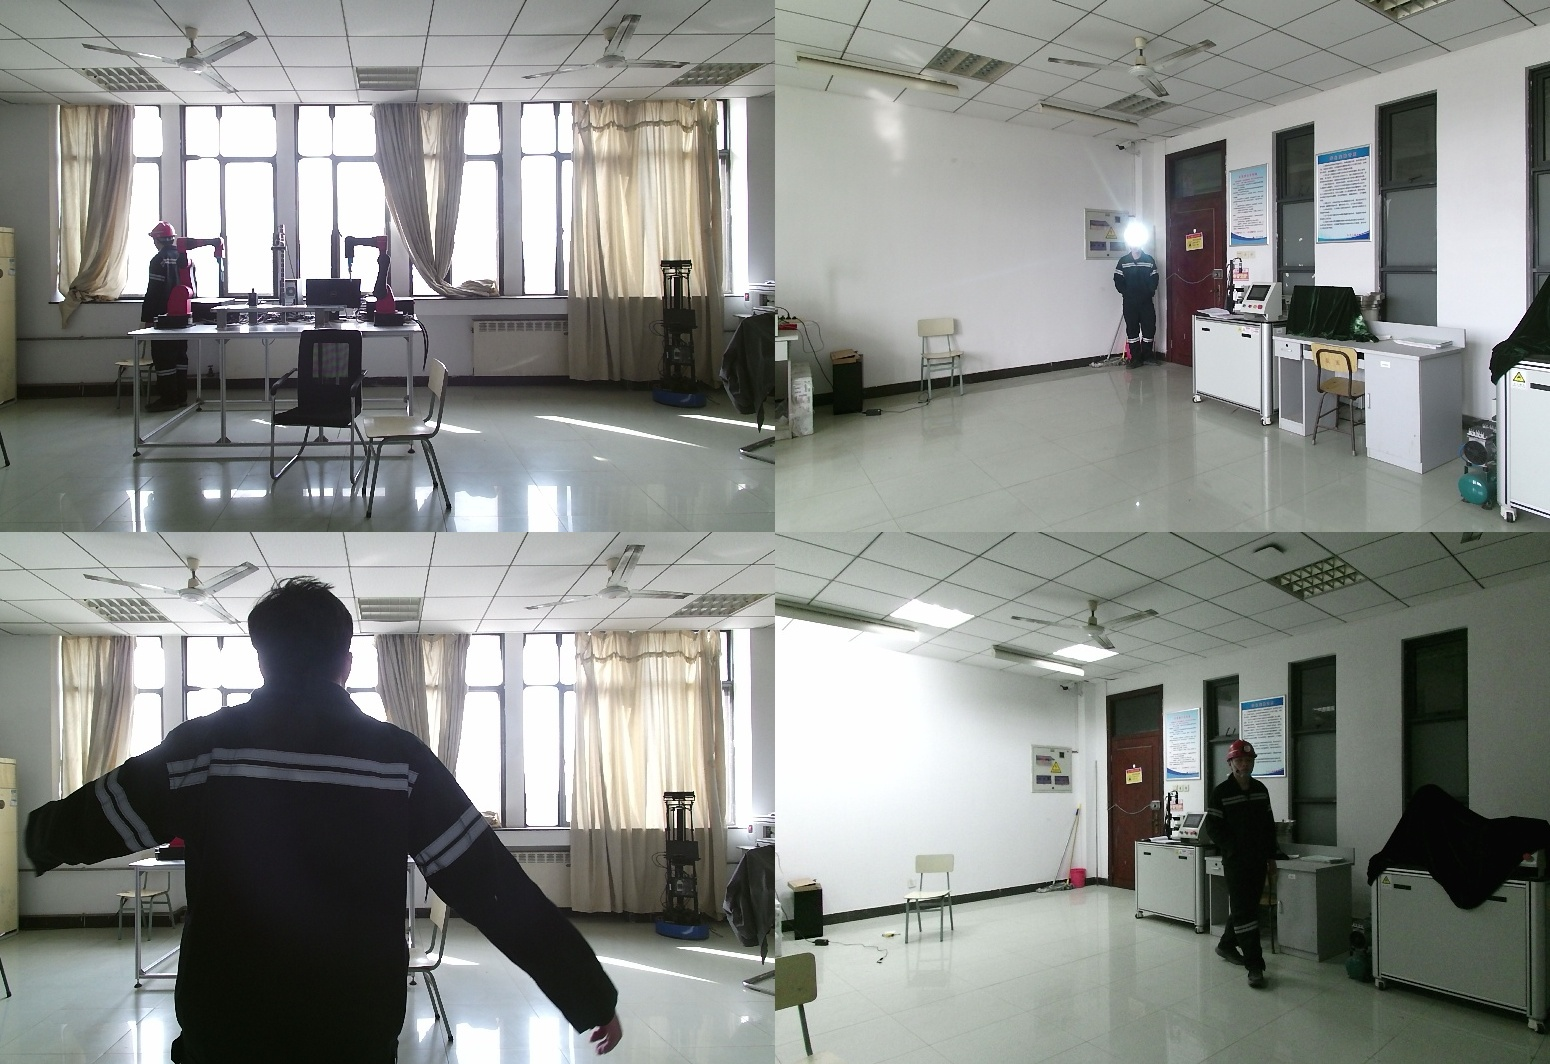person: (28, 583, 618, 1064), (1200, 741, 1282, 990), (140, 222, 190, 423), (1114, 229, 1161, 367)
